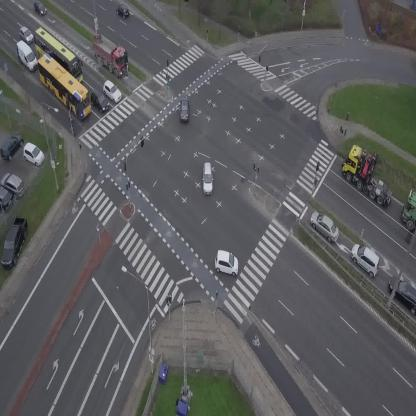bicycle: (68, 118, 75, 133)
bus: (28, 50, 100, 121), (24, 25, 93, 87)
car: (345, 239, 387, 280), (304, 208, 345, 245), (86, 87, 114, 114), (213, 249, 241, 276), (99, 79, 125, 104), (16, 25, 36, 46), (114, 2, 132, 20), (203, 162, 213, 194), (180, 98, 188, 121)
lorry: (334, 138, 398, 218), (85, 30, 137, 80), (10, 38, 41, 74), (401, 190, 416, 232)
